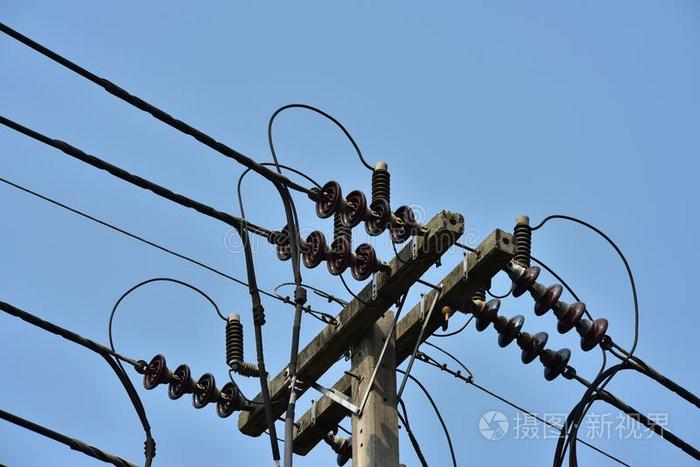insulator: (514, 263, 609, 351), (478, 298, 573, 384), (309, 177, 416, 241), (141, 353, 242, 417), (272, 220, 377, 279)
